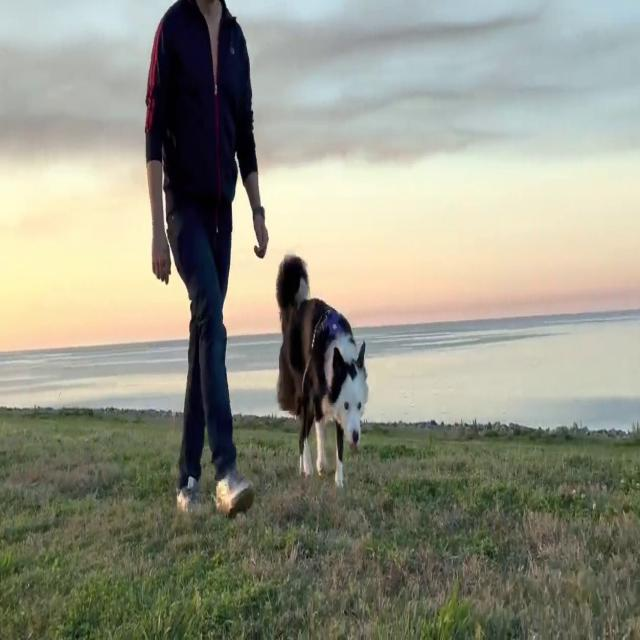Unleashed_Dog: (198, 198, 369, 490)
